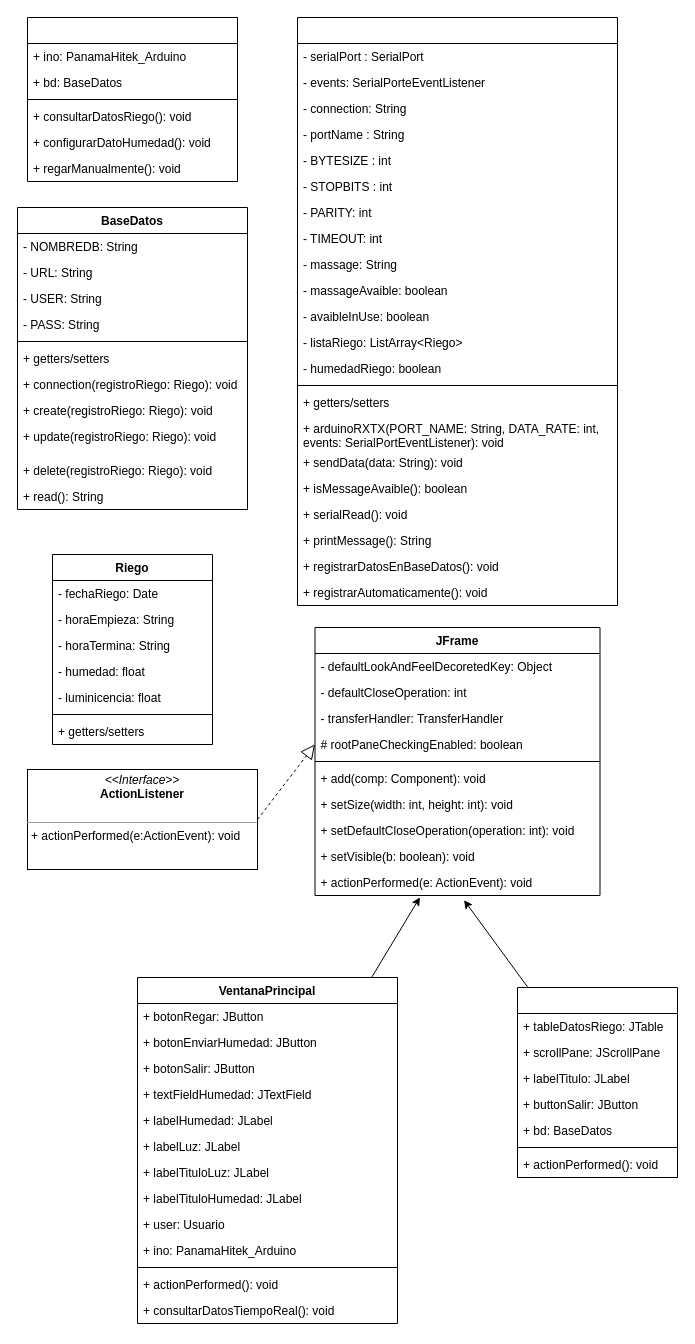
Image size: 695x1344. Some labels were removed from this diagram. The box of each missing label's shape, as (x1, y1, x2, y2) in pixels:
PanamaHitek_Arduino: (296, 16, 618, 606)
Usuario: (26, 16, 238, 182)
VentanaDatosRiego: (516, 986, 678, 1178)
